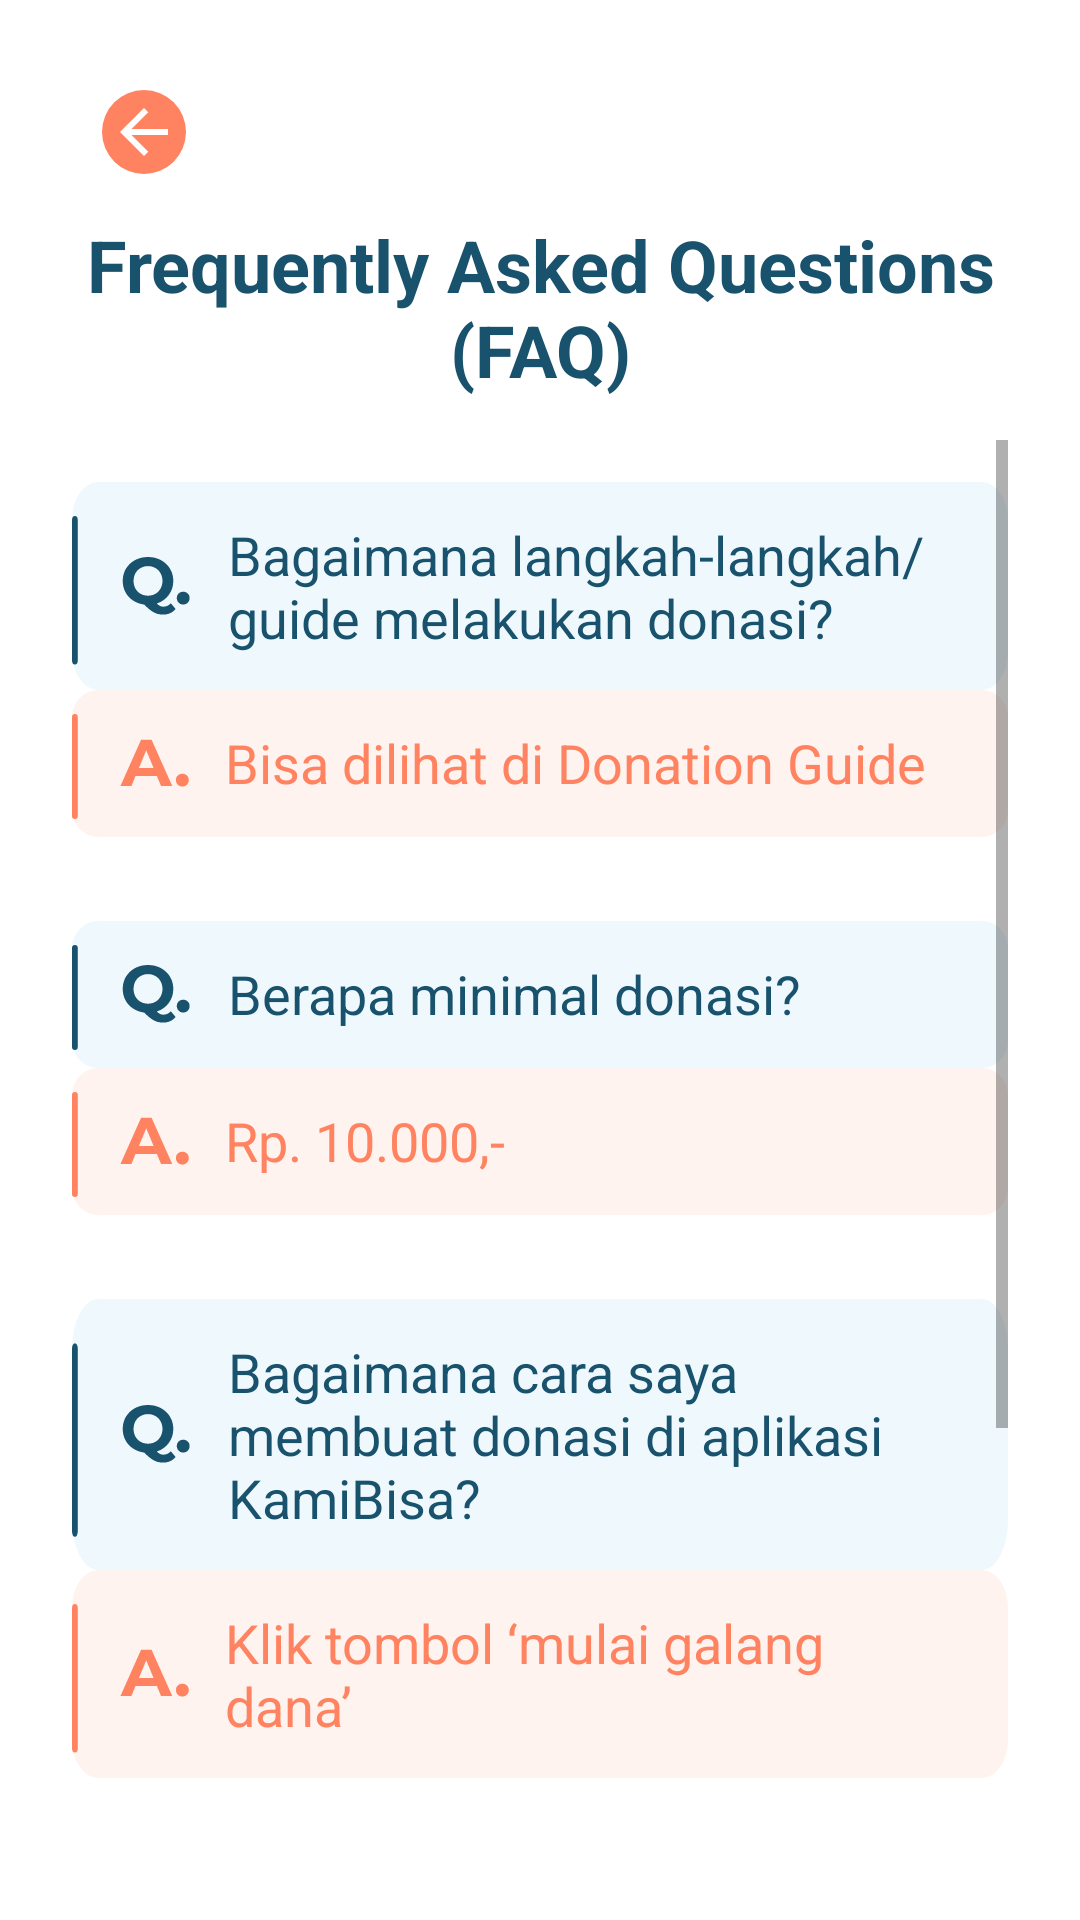

Point at icon controls on the screen. Image size 1080 × 1920, points as (x=x, y=y).
back: (x=144, y=132)
